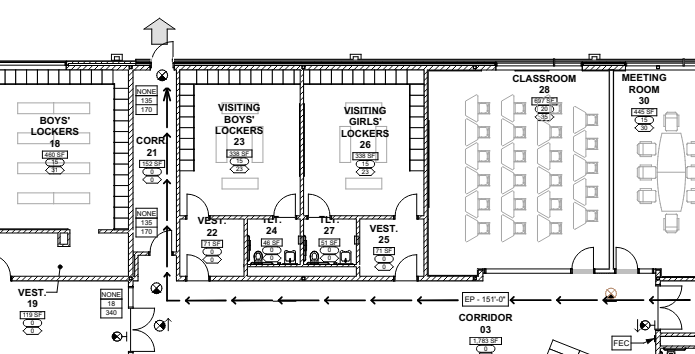door: (613, 244, 641, 281), (570, 243, 596, 281), (392, 192, 419, 228), (184, 191, 212, 225), (271, 189, 297, 223), (392, 253, 421, 283), (305, 191, 333, 222), (184, 252, 210, 284), (148, 228, 174, 260)
double door: (652, 283, 685, 331), (126, 306, 158, 354)
